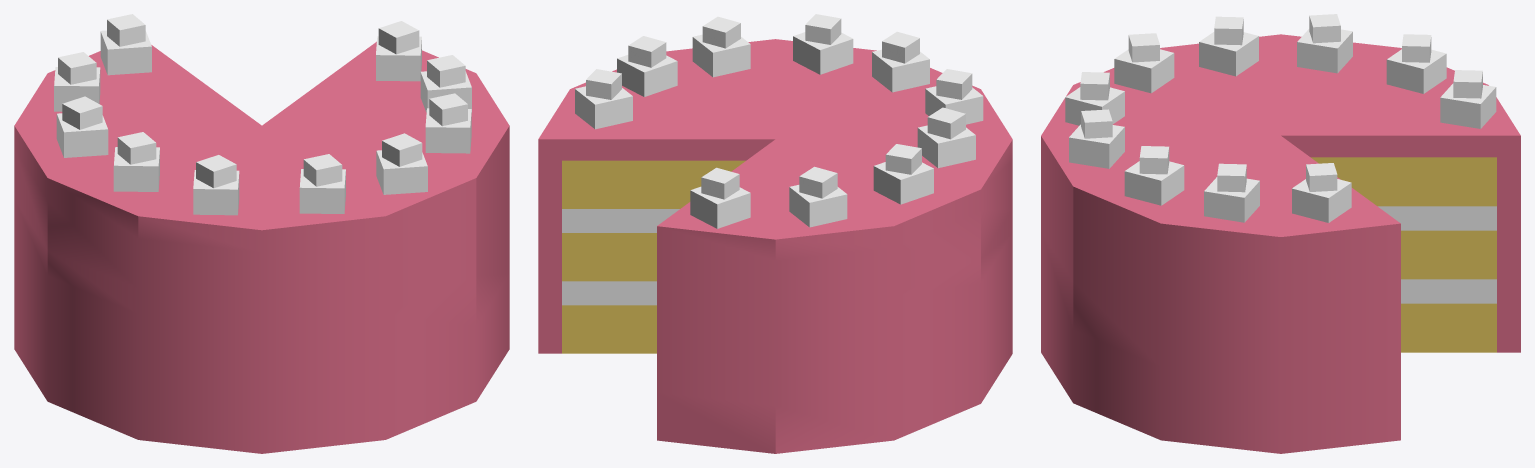
File: CandylandCake_05.fbx
The picture shows the model from 3 angles, left to right: view 1: azimuth 30°, elevation 25°; view 2: azimuth 150°, elevation 25°; view 3: azimuth 270°, elevation 25°; orthographic projection. The views are drawn at different scales.
Visible parts, largest first — view 1: CandylandCake_05; view 2: CandylandCake_05; view 3: CandylandCake_05.
Boxes of the visible parts, <box> form: CandylandCake_05: <box>14,14,509,453</box>; CandylandCake_05: <box>538,14,1012,453</box>; CandylandCake_05: <box>1041,14,1520,453</box>.
Size of the model in its own units: 1.34 by 0.7941 by 1.34.
